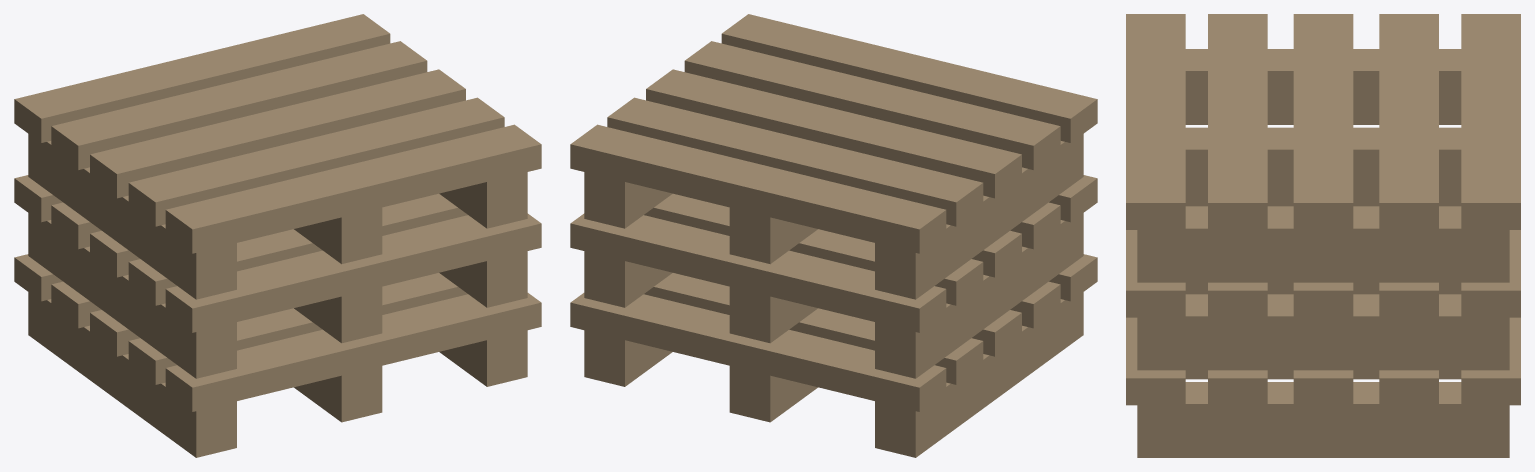
The model's file is pallet_stack.glb.
3 views of the same model, side by side, from view 1: azimuth 30°, elevation 25°; view 2: azimuth 150°, elevation 25°; view 3: azimuth 270°, elevation 25° (orthographic). The views are drawn at different scales.
Parts seen in each view (by area): view 1: pallet_stack; view 2: pallet_stack; view 3: pallet_stack.
Boxes of the visible parts, box(x1,y1,x2,y2) form: pallet_stack: box(14, 14, 541, 457); pallet_stack: box(570, 14, 1097, 457); pallet_stack: box(1126, 14, 1520, 457).
Size of the model in its own units: 1.2 by 0.77 by 1.06.
